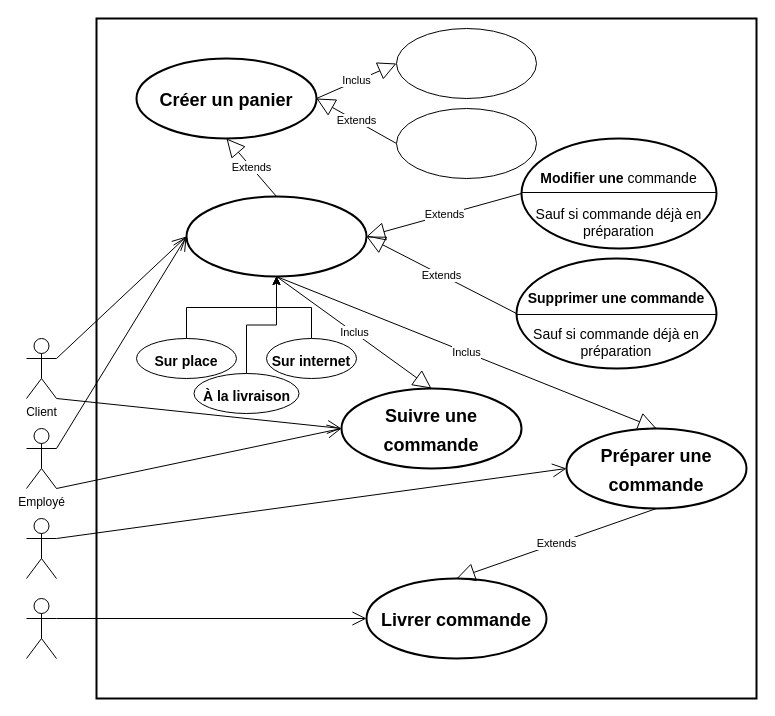
This 775x716 diagram has some shape labels left out. Each missing label, with the box of its shape:
Ajouter article: (396, 28, 536, 98)
Effectuer une commande: (185, 195, 367, 277)
Livreur: (26, 598, 56, 658)
Pizzaiolo: (26, 518, 56, 578)
Supprimer article: (396, 108, 536, 178)
